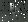person: (12, 5, 20, 17)
